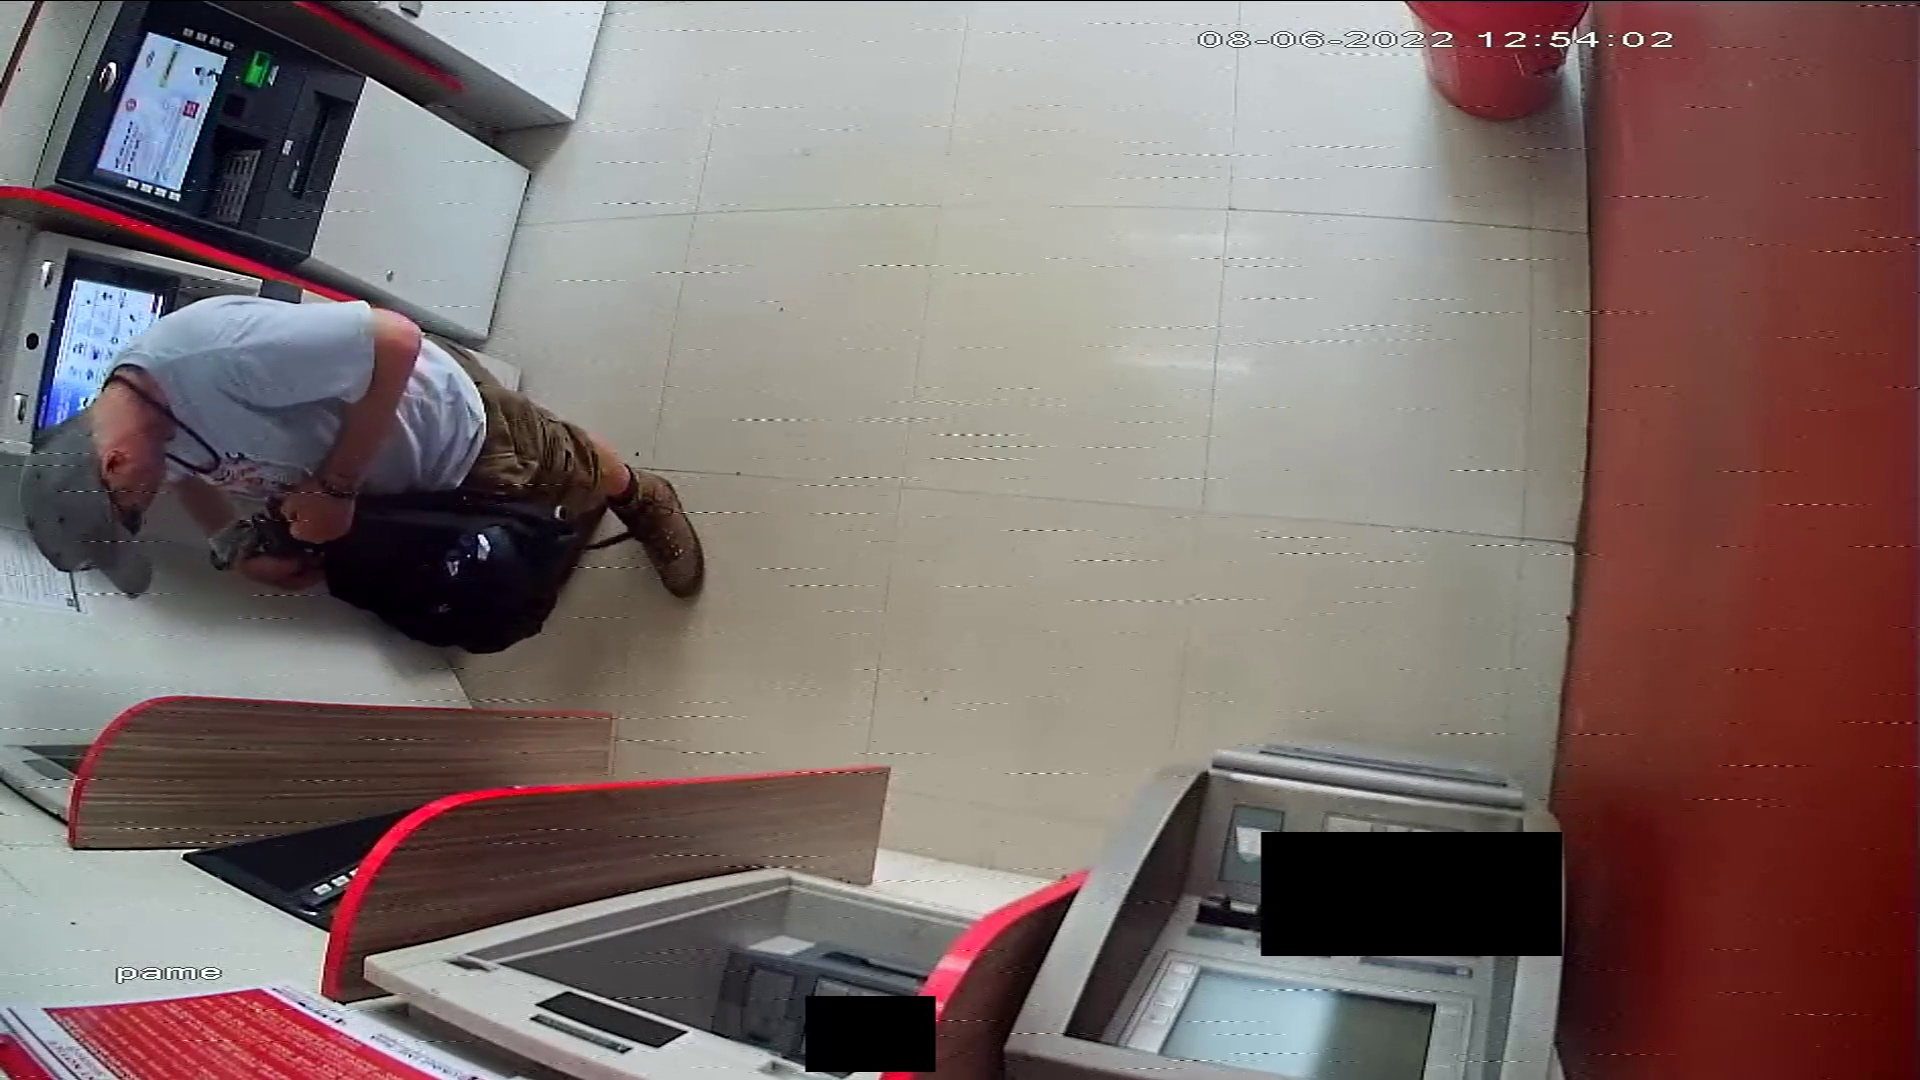person: (12, 294, 712, 604)
